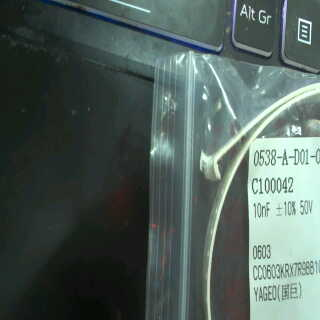10nF: (252, 200, 273, 222)
